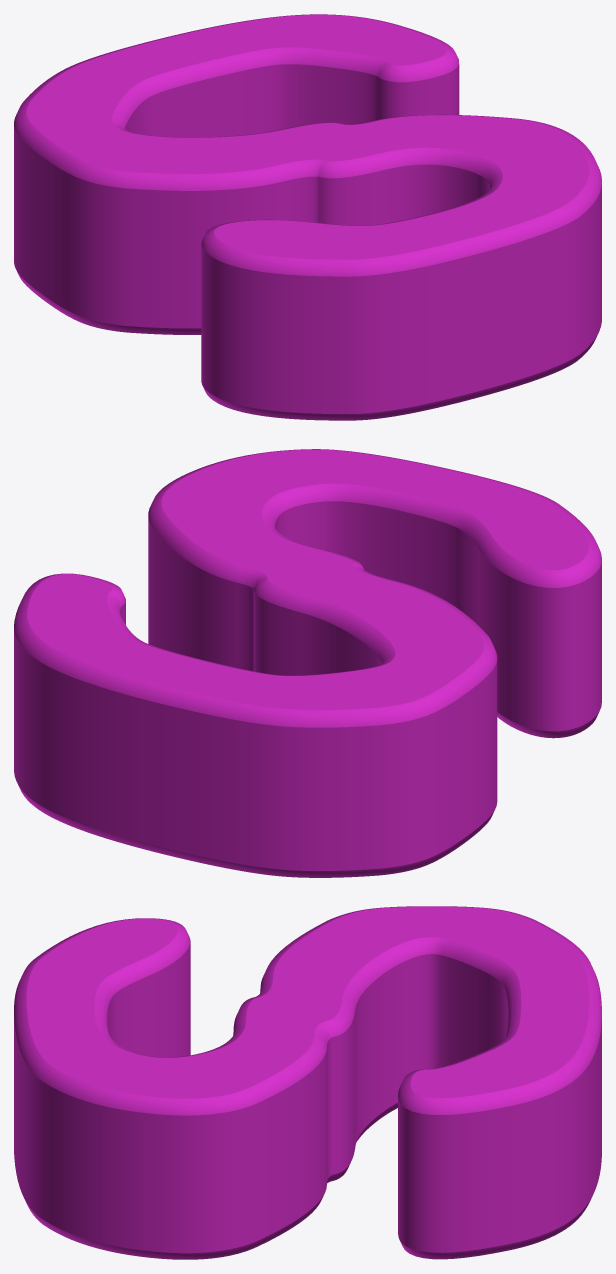
File: Blocky_Letter_s.fbx
The picture shows the model from 3 angles, top to bottom: view 1: azimuth 30°, elevation 25°; view 2: azimuth 150°, elevation 25°; view 3: azimuth 270°, elevation 25°; orthographic projection. The views are drawn at different scales.
Parts seen in each view (by area): view 1: BlockyLetter_s; view 2: BlockyLetter_s; view 3: BlockyLetter_s.
Boxes of the visible parts, left/top/right/bottom form: BlockyLetter_s: left=14, top=14, right=601, bottom=420; BlockyLetter_s: left=14, top=449, right=601, bottom=877; BlockyLetter_s: left=14, top=906, right=601, bottom=1259.
Size of the model in its own units: 0.3791 by 0.14 by 0.4645.
